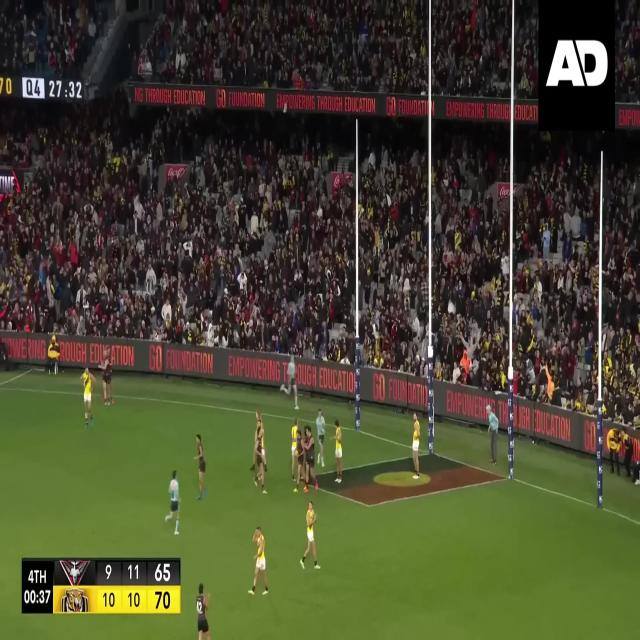crowd: (0, 85, 354, 364), (133, 1, 427, 94), (513, 128, 600, 414), (436, 122, 510, 388), (361, 118, 428, 372), (602, 138, 640, 427), (0, 0, 109, 74), (432, 1, 511, 99), (616, 4, 640, 101), (514, 4, 537, 98)
